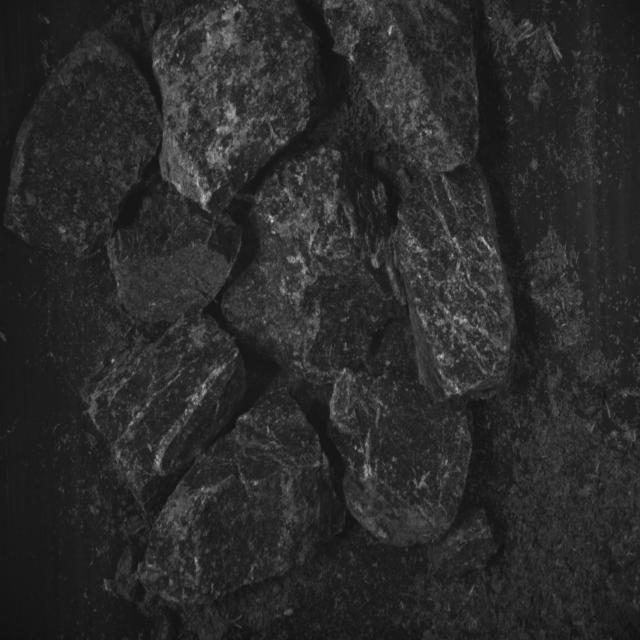Stones: (224, 147, 405, 403), (142, 390, 345, 605), (154, 1, 324, 213), (5, 31, 162, 259), (330, 319, 472, 547), (90, 316, 247, 510), (395, 164, 516, 401), (324, 1, 480, 175), (109, 183, 242, 324), (431, 510, 499, 578)
